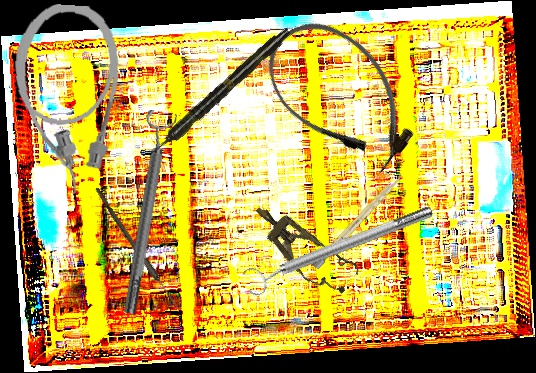Cannula: (247, 1, 436, 190), (6, 1, 124, 197)
Fixation Ring: (239, 197, 439, 299), (112, 109, 180, 316)
Handpiece: (146, 24, 294, 160)
Scalpel Handle: (312, 172, 404, 270)
Speculum: (242, 191, 364, 304)
Surgical Spoon: (92, 187, 183, 312)
